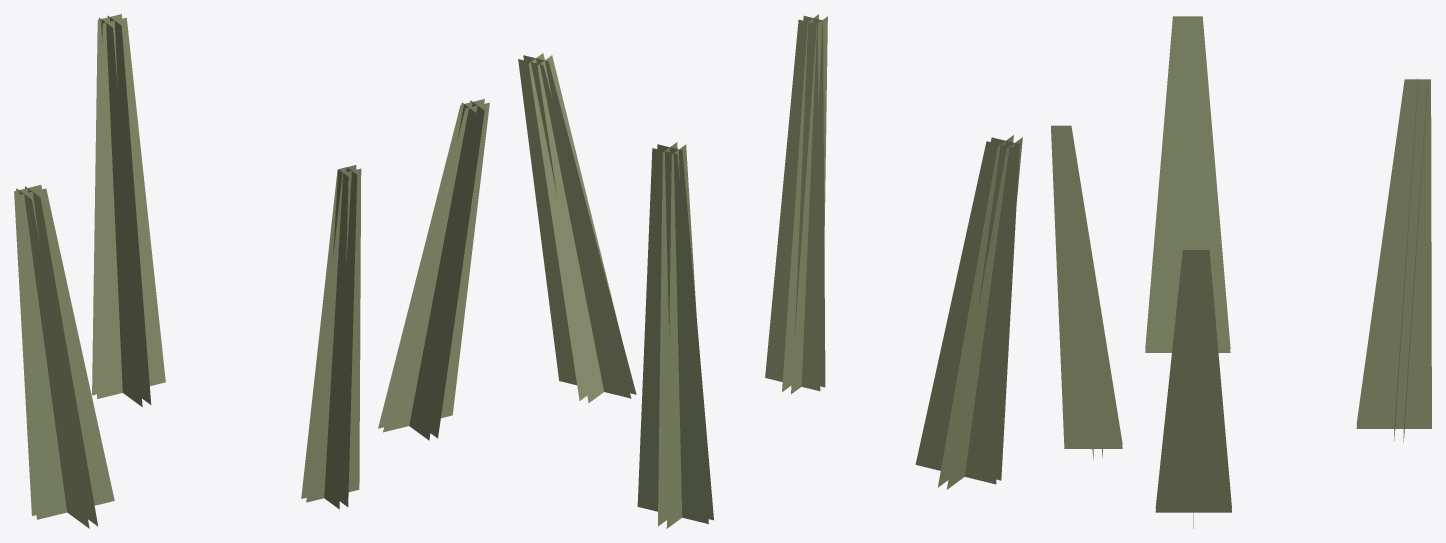
The model's file is grass_tuft_sparse.glb.
The picture shows the model from 3 angles, left to right: view 1: azimuth 30°, elevation 25°; view 2: azimuth 150°, elevation 25°; view 3: azimuth 270°, elevation 25°; orthographic projection. The views are drawn at different scales.
Visible parts, largest first — view 1: grass_tuft_sparse; view 2: grass_tuft_sparse; view 3: grass_tuft_sparse.
Part boxes in pixels (x1,y1,x2,y2): grass_tuft_sparse: (14, 14, 489, 528); grass_tuft_sparse: (518, 14, 1022, 528); grass_tuft_sparse: (1051, 16, 1431, 528).
Bounding box in the file's own units: 0.2752 × 0.2004 × 0.2012.
